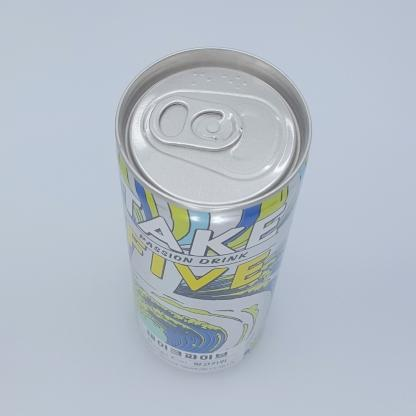---------: (115, 47, 312, 372)
